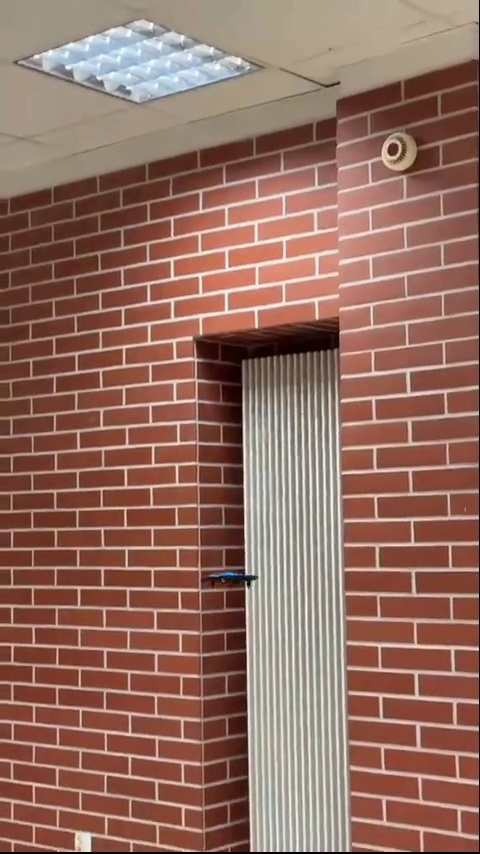drone: (201, 571, 263, 594)
